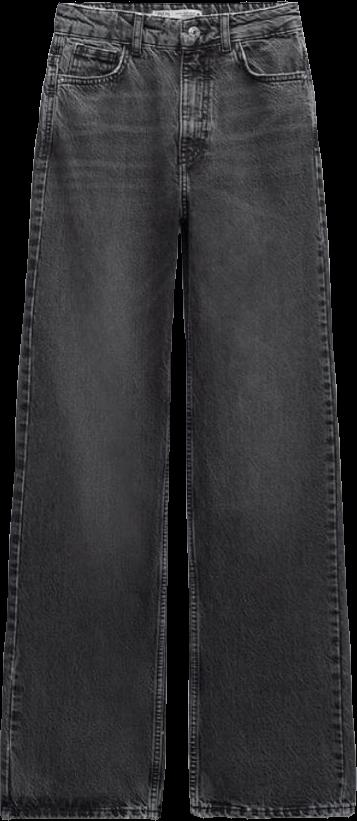Hemline: (191, 808, 356, 820), (0, 808, 159, 820)
Pantleg: (0, 0, 182, 820), (179, 0, 355, 819)
Waistline: (53, 25, 304, 53), (56, 0, 300, 22)
